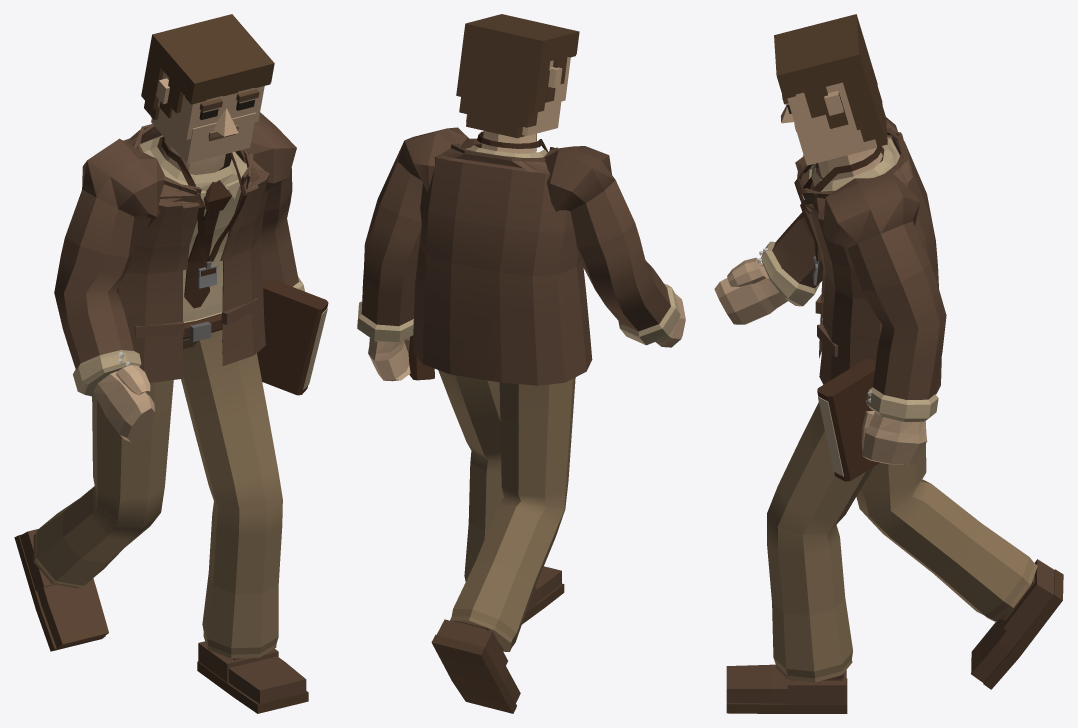
Rendered from school-teacher-8b8bfc__walk1.glb.
The picture shows the model from 3 angles, left to right: view 1: azimuth 30°, elevation 25°; view 2: azimuth 150°, elevation 25°; view 3: azimuth 270°, elevation 25°; orthographic projection. The views are drawn at different scales.
Visible parts, largest first — view 1: school-teacher-8b8bfc__walk1; view 2: school-teacher-8b8bfc__walk1; view 3: school-teacher-8b8bfc__walk1.
Part boxes in pixels (x1,y1,x2,y2): school-teacher-8b8bfc__walk1: (14,14,328,713); school-teacher-8b8bfc__walk1: (357,14,685,713); school-teacher-8b8bfc__walk1: (714,14,1063,713).
Size of the model in its own units: 0.7653 by 1.71 by 0.8116.
